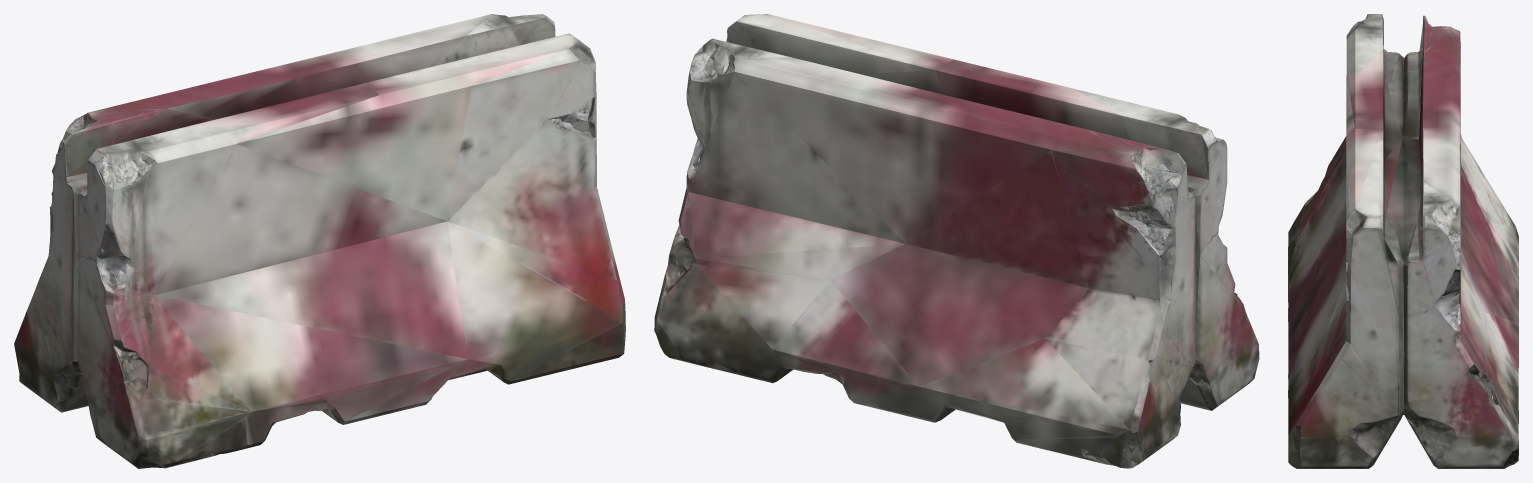
The model's file is barrier_concrete.glb.
The picture shows the model from 3 angles, left to right: view 1: azimuth 30°, elevation 25°; view 2: azimuth 150°, elevation 25°; view 3: azimuth 270°, elevation 25°; orthographic projection. The views are drawn at different scales.
Parts seen in each view (by area): view 1: Mesh_0; view 2: Mesh_0; view 3: Mesh_0.
Boxes of the visible parts, <box> form: Mesh_0: <box>14,14,625,468</box>; Mesh_0: <box>654,14,1259,468</box>; Mesh_0: <box>1288,14,1518,468</box>.
Bounding box in the file's own units: 1.9 × 1.06 × 0.8816.
1 material, 1 textured.
